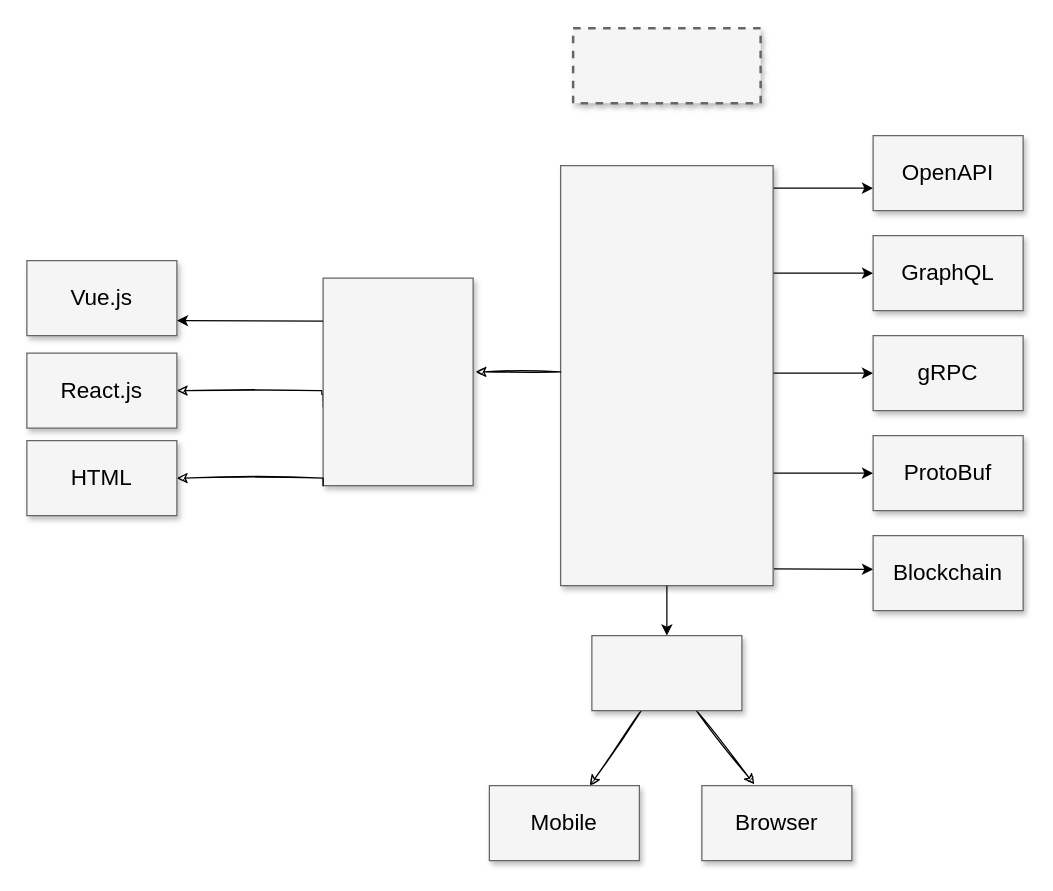
This 1053x891 diagram has some shape labels left out. The centre of each missing label's shape, as x and y in pixels:
"Software Control" belongs at [667,66].
"UI" belongs at [399,383].
"UI-Species" belongs at [667,376].
"UX" belongs at [667,674].
